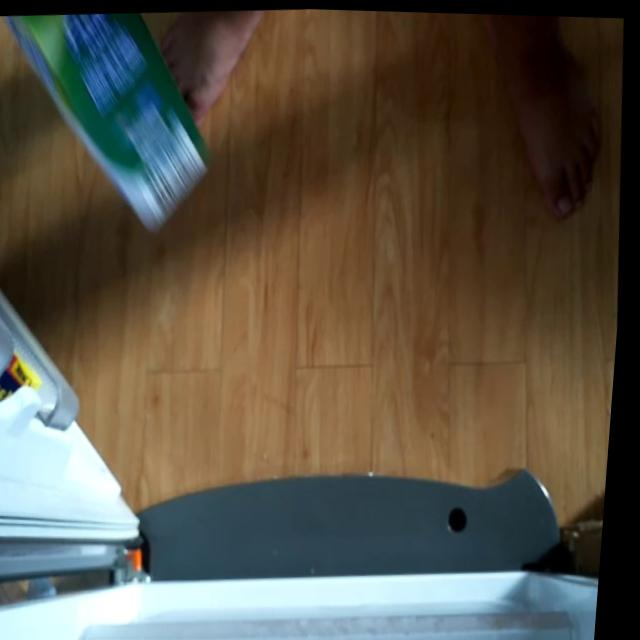milk: (0, 5, 231, 238)
